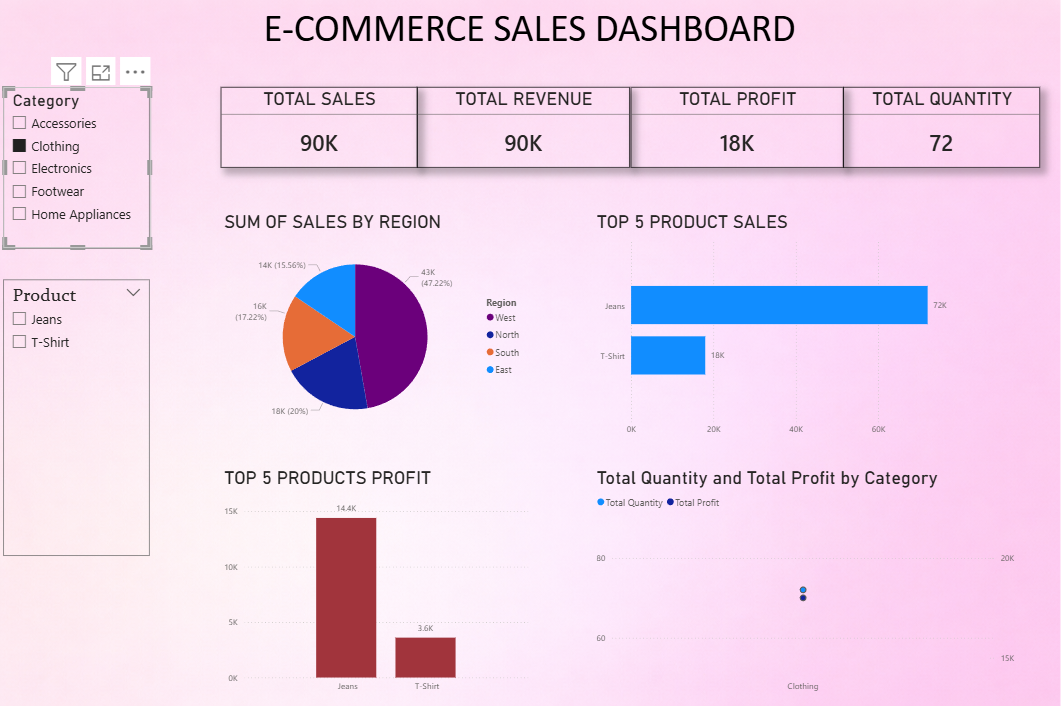

The dashboard page shown, as its layout file describes it:
{"tool":"powerbi","page":{"name":"Page 1","canvas":[1920,1080],"ordinal":0},"visuals":[{"type":"textbox","box":[198,28,1524,84],"z":0},{"type":"slicer","fields":{"Values":["Sheet1.Category"]},"box":[198,152,212,234],"z":1},{"type":"slicer","fields":{"Values":["Sheet1.Product"]},"box":[198,430,212,400],"z":2},{"type":"pieChart","title":"SUM OF SALES BY REGION","fields":{"Category":["Sheet1.Region"],"Y":["Sum(Sheet1.Sales)"]},"box":[511.7,331.7,453.3,335],"z":3},{"type":"cardVisual","title":"TOTAL SALES","fields":{"Data":["Sheet1.Total Sales"]},"box":[511.7,151.7,285,116.7],"z":4},{"type":"cardVisual","title":"TOTAL REVENUE","fields":{"Data":["Sheet1.Total Revenue"]},"box":[796.7,151.7,308.3,116.7],"z":5},{"type":"cardVisual","title":"TOTAL QUANTITY","fields":{"Data":["Sheet1.Total Quantity"]},"box":[1413.3,151.7,285,116.7],"z":6},{"type":"cardVisual","title":"TOTAL PROFIT","fields":{"Data":["Sheet1.Total Profit"]},"box":[1105,151.7,308.3,116.7],"z":7},{"type":"clusteredBarChart","title":"TOP 5 PRODUCT SALES","fields":{"Category":["Sheet1.Product"],"Y":["Sheet1.Total Sales"]},"box":[1051.7,331.7,528.3,335],"z":8},{"type":"clusteredColumnChart","title":"TOP 5 PRODUCTS PROFIT","fields":{"Category":["Sheet1.Product"],"Y":["Sheet1.Total Profit"]},"box":[511.7,701.7,453.3,335],"z":9},{"type":"lineChart","fields":{"Category":["Sheet1.Category"],"Y2":["Sheet1.Total Profit"],"Y":["Sheet1.Total Quantity"]},"box":[1051.7,701.7,615,335],"z":10}]}

Visuals, with their boxes on the page's 1920x1080 design canvas (x1, y1, x2, y2). These are canvas units, not pixel positions in the 1061x706 screenshot, which may show the page scaled, cropped or inside an application window:
textbox: BBox(198, 28, 1722, 112)
slicer - Sheet1.Category: BBox(198, 152, 410, 386)
slicer - Sheet1.Product: BBox(198, 430, 410, 830)
"SUM OF SALES BY REGION" pieChart: BBox(512, 332, 965, 667)
"TOTAL SALES" cardVisual: BBox(512, 152, 797, 268)
"TOTAL REVENUE" cardVisual: BBox(797, 152, 1105, 268)
"TOTAL QUANTITY" cardVisual: BBox(1413, 152, 1698, 268)
"TOTAL PROFIT" cardVisual: BBox(1105, 152, 1413, 268)
"TOP 5 PRODUCT SALES" clusteredBarChart: BBox(1052, 332, 1580, 667)
"TOP 5 PRODUCTS PROFIT" clusteredColumnChart: BBox(512, 702, 965, 1037)
lineChart - Sheet1.Category x Sheet1.Total Profit: BBox(1052, 702, 1667, 1037)
